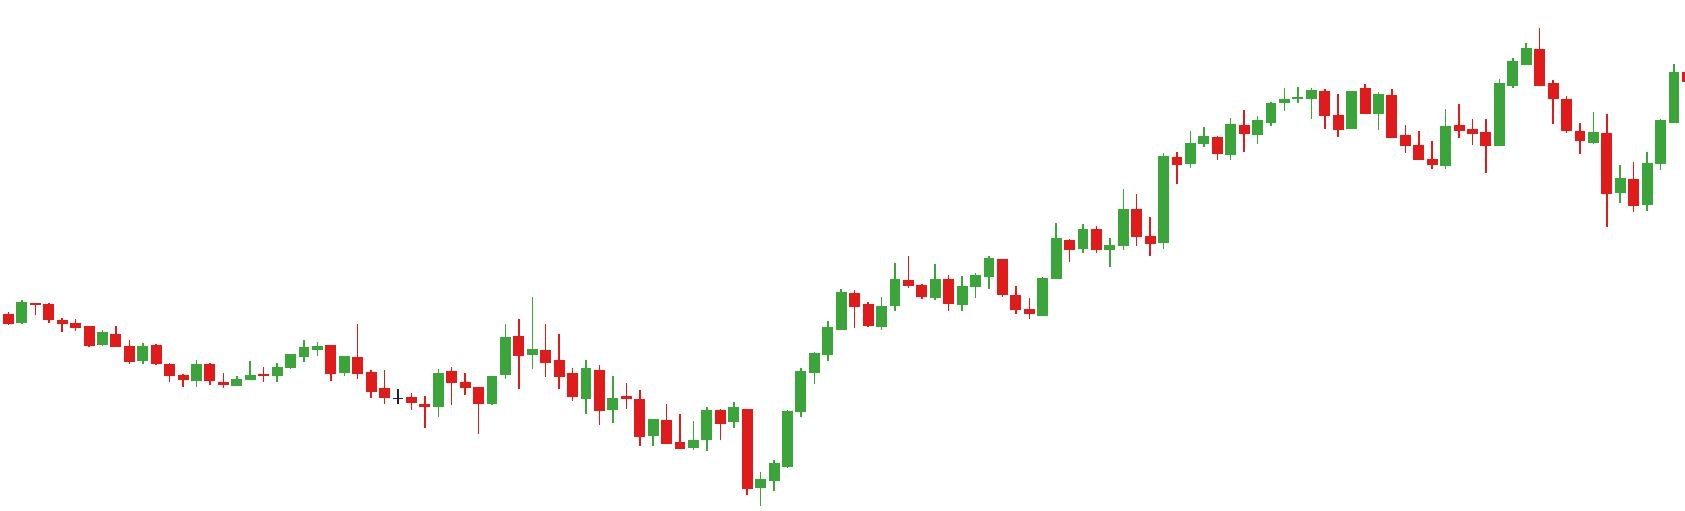buy: (942, 271, 1052, 328)
